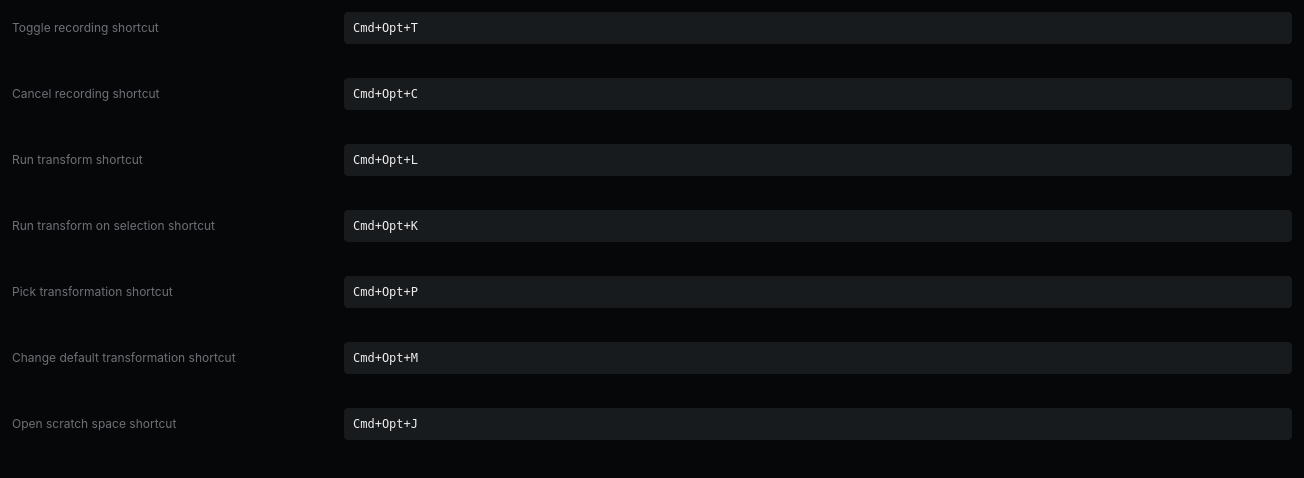
Test: SettingsShortcutEditorReact › captures a key combo from recording mode and propagates shortcut edits
The width and height of the screenshot is (1304, 478).
Click the field with id "settings-shortcut-toggle-recording" at (818, 28), box [344, 12, 1292, 44]
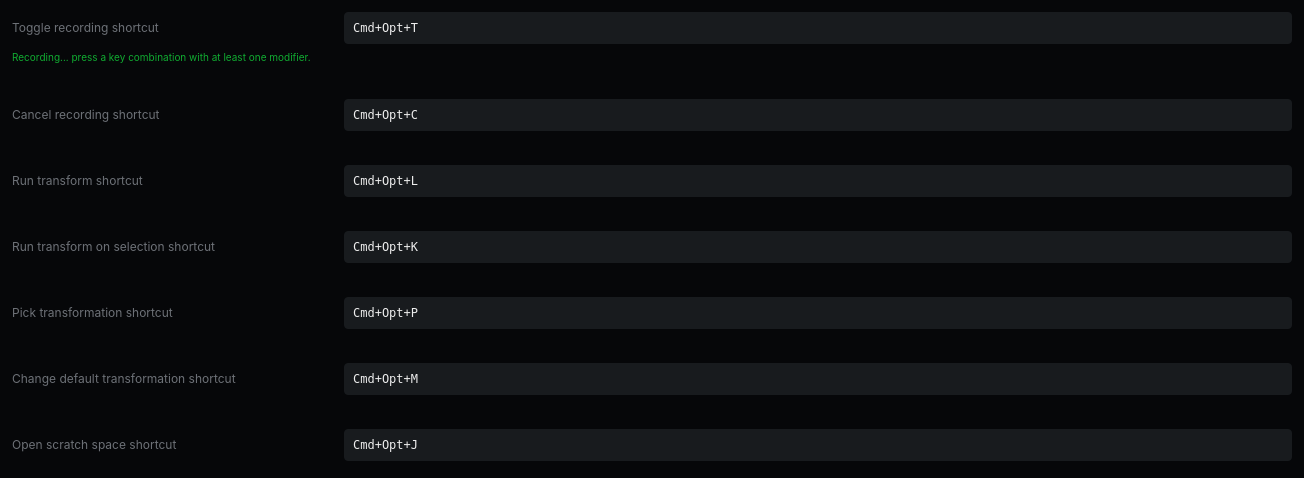
Press 3 in the field with id "settings-shortcut-toggle-recording", box [344, 12, 1292, 44]
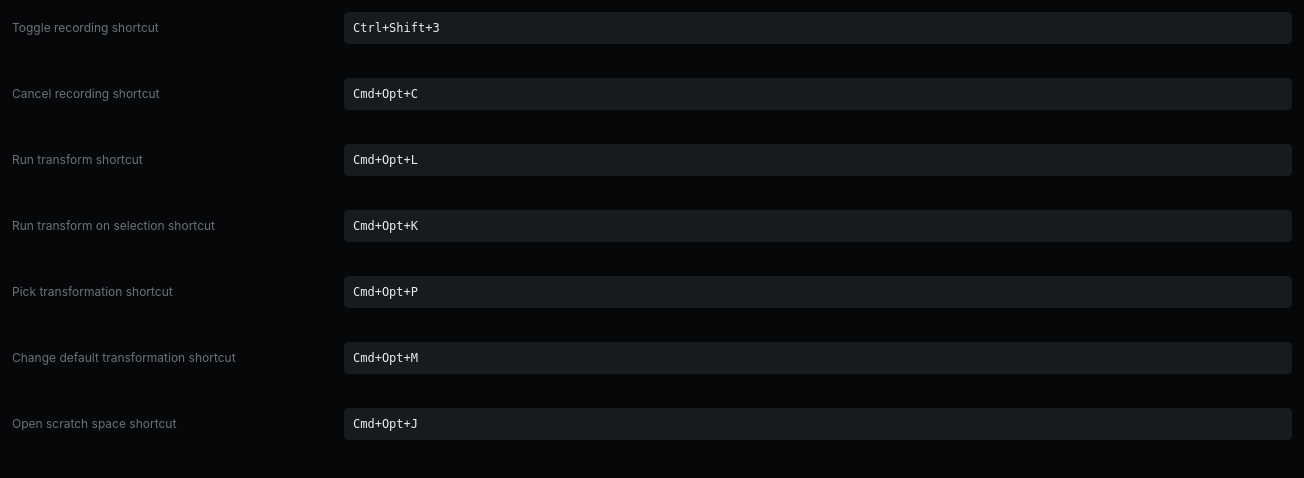
Now the field with id "settings-shortcut-toggle-recording" holds "Ctrl+Shift+3", box [344, 12, 1292, 44]
